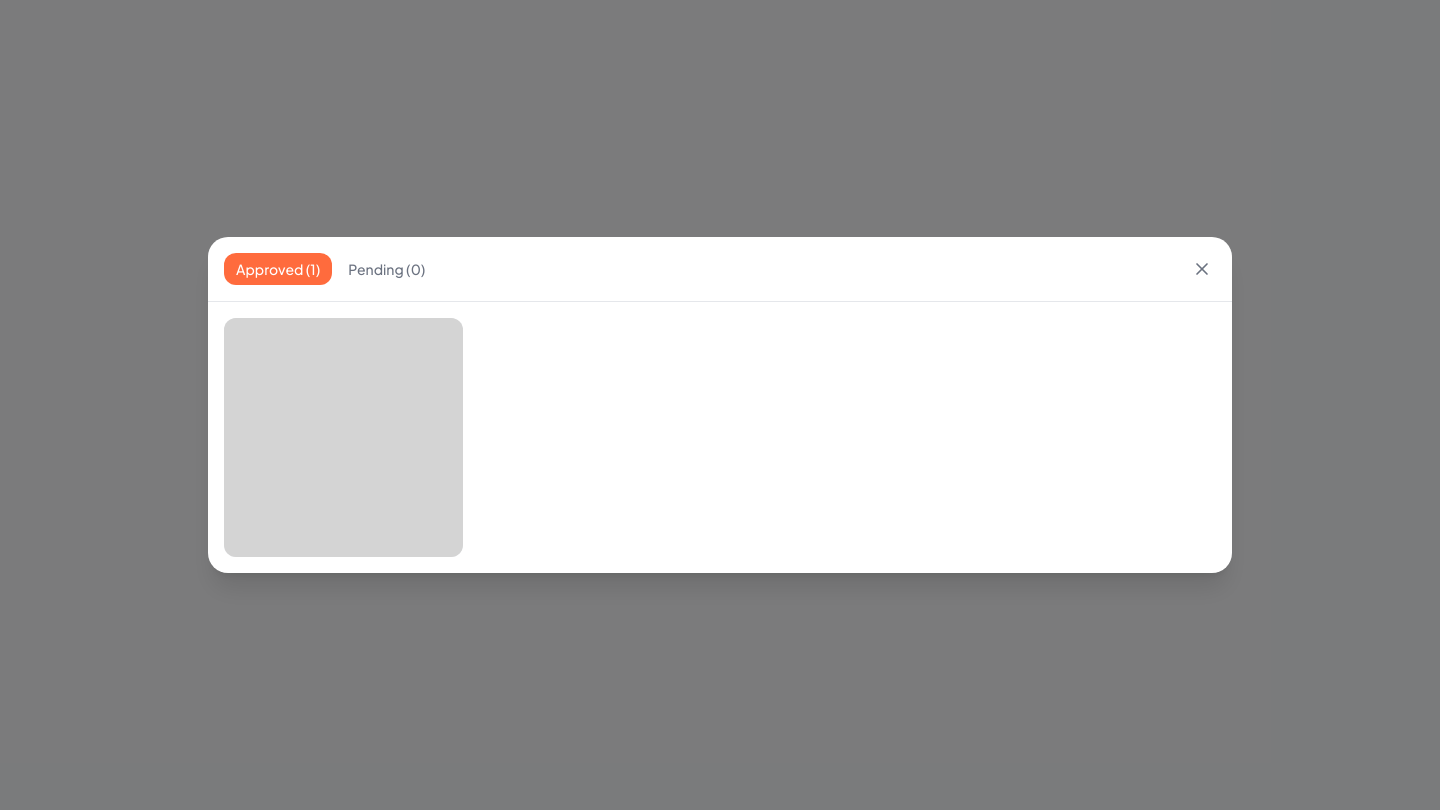
Test case: KollabViewer › moves an approved drop out of Pending and into Approved
Step 1. Click the tab "Pending (0)" → (387, 269), box x1=336 y1=253 x2=437 y2=285
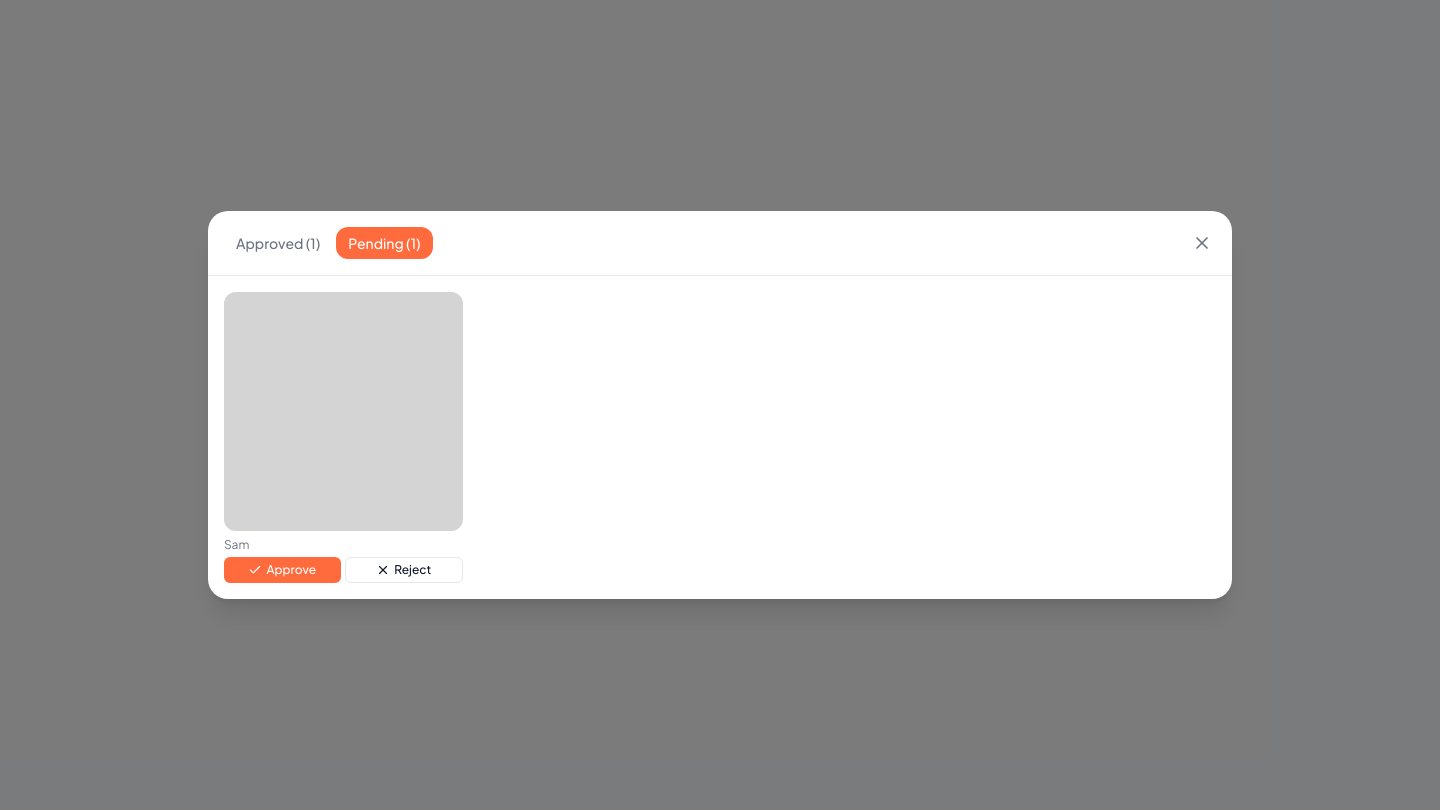
Now the button "Approve" is shown
Step 2. Click the button "Approve" → (282, 570), box x1=224 y1=557 x2=340 y2=583
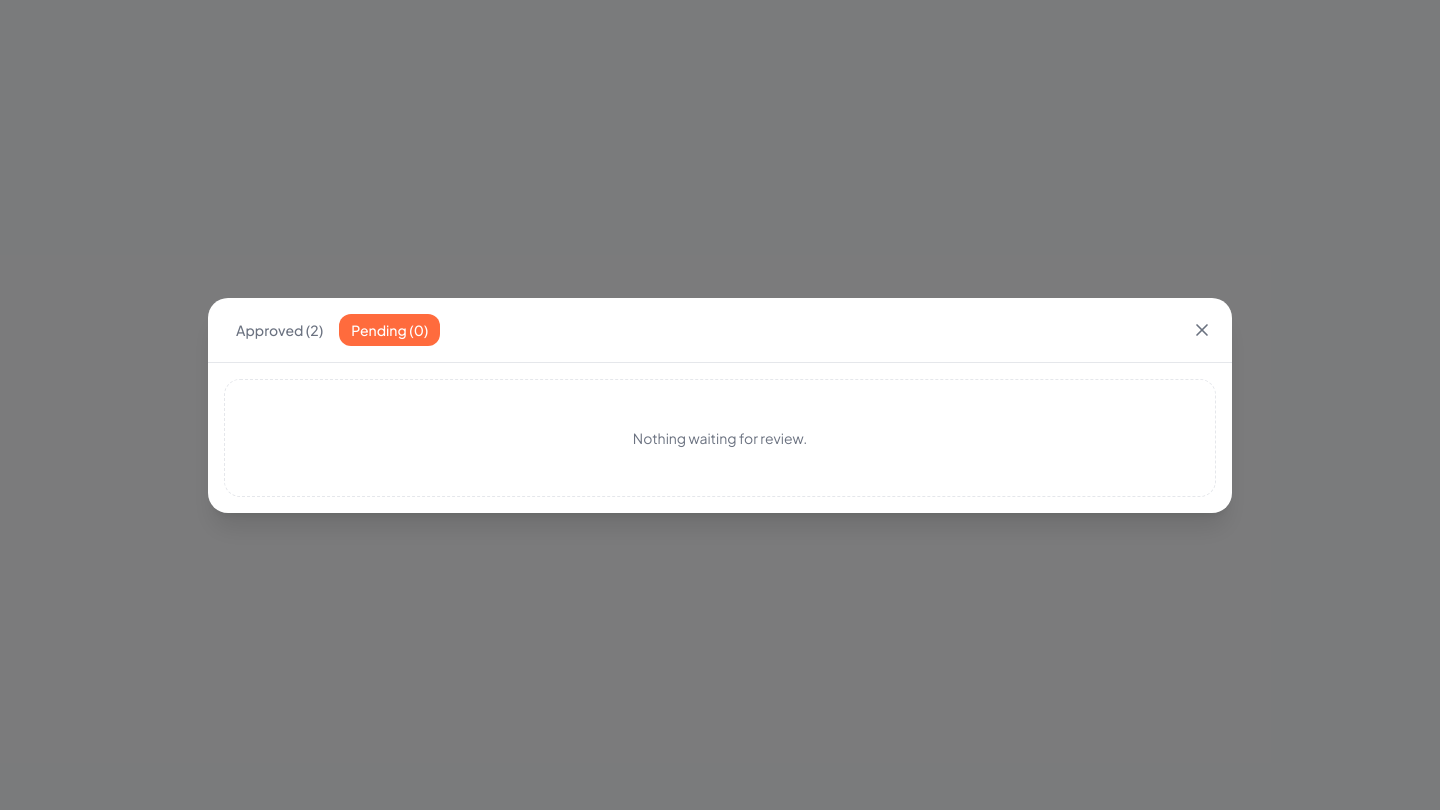
Now the text "Nothing waiting for review." is shown, box x1=224 y1=378 x2=1216 y2=496
Now the tab "Approved (2)" is shown, box x1=224 y1=314 x2=335 y2=346
